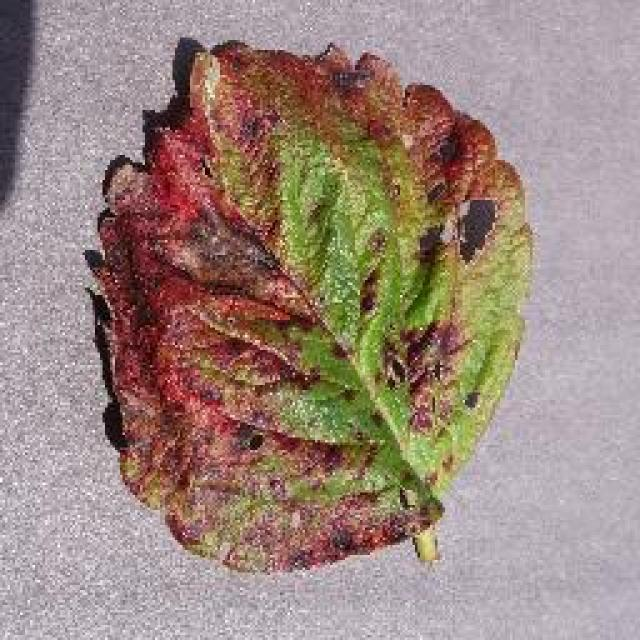Strawberry leaf scorch: (132, 38, 486, 522)
